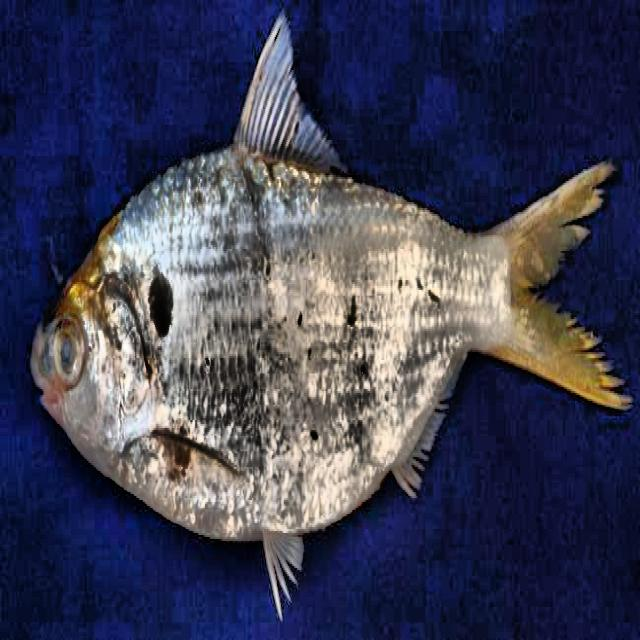fish: (29, 12, 635, 627)
